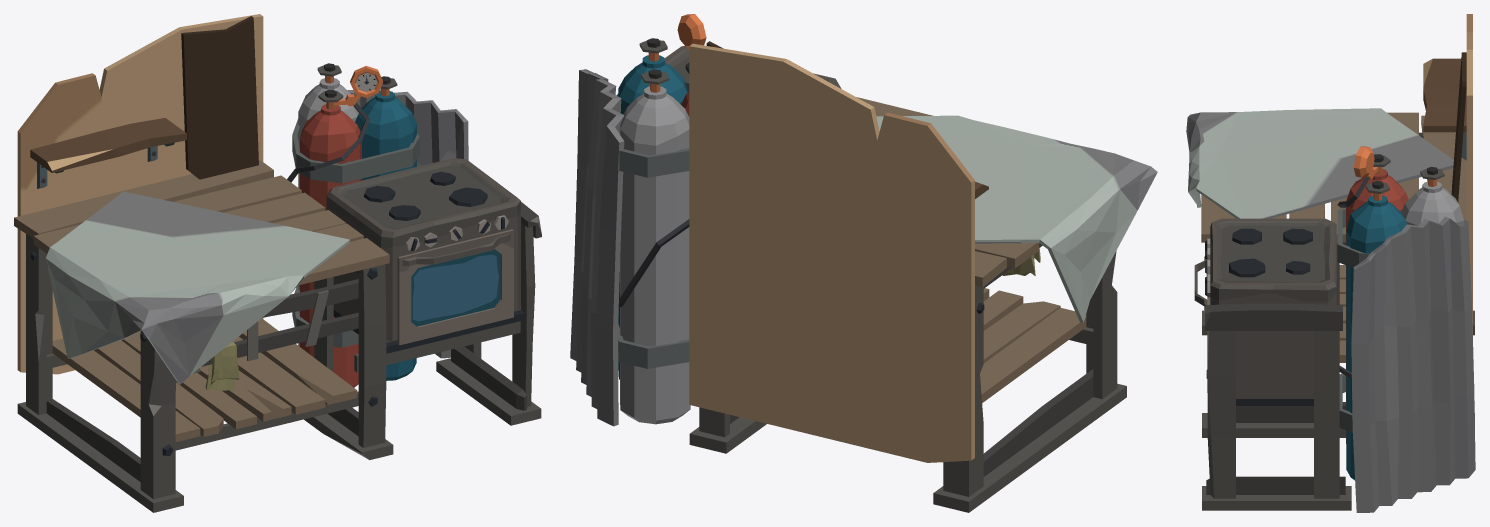
The model's file is SM_Cooking_Table.gltf.
The picture shows the model from 3 angles, left to right: view 1: azimuth 30°, elevation 25°; view 2: azimuth 150°, elevation 25°; view 3: azimuth 270°, elevation 25°; orthographic projection. The views are drawn at different scales.
Parts seen in each view (by area): view 1: SM_Cooking_Table, SM_Cooking_Table_Door; view 2: SM_Cooking_Table; view 3: SM_Cooking_Table, SM_Cooking_Table_Door.
Boxes of the visible parts, bbox=[...] form: SM_Cooking_Table: bbox=[14, 14, 541, 512]; SM_Cooking_Table_Door: bbox=[397, 229, 513, 345]; SM_Cooking_Table: bbox=[570, 14, 1157, 512]; SM_Cooking_Table: bbox=[1186, 14, 1475, 512]; SM_Cooking_Table_Door: bbox=[1194, 256, 1210, 392].
Bounding box in the file's own units: 2.27 × 1.81 × 1.36.
Materials: 2 (2 with a texture image).
